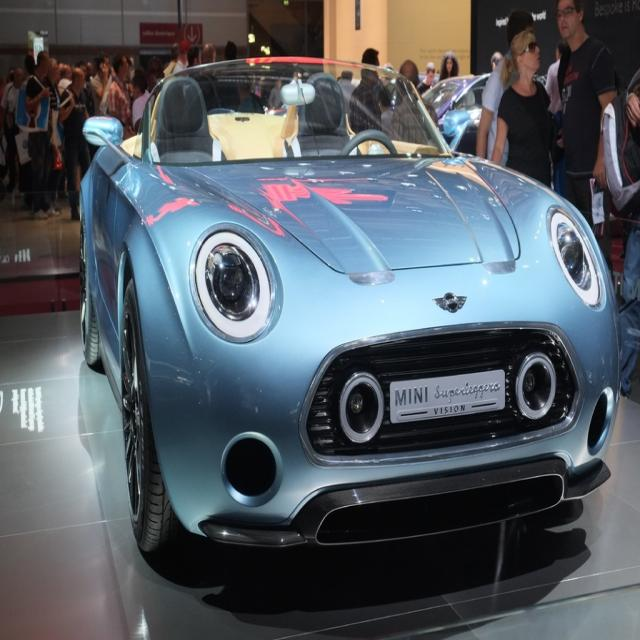Car: (76, 48, 625, 562)
